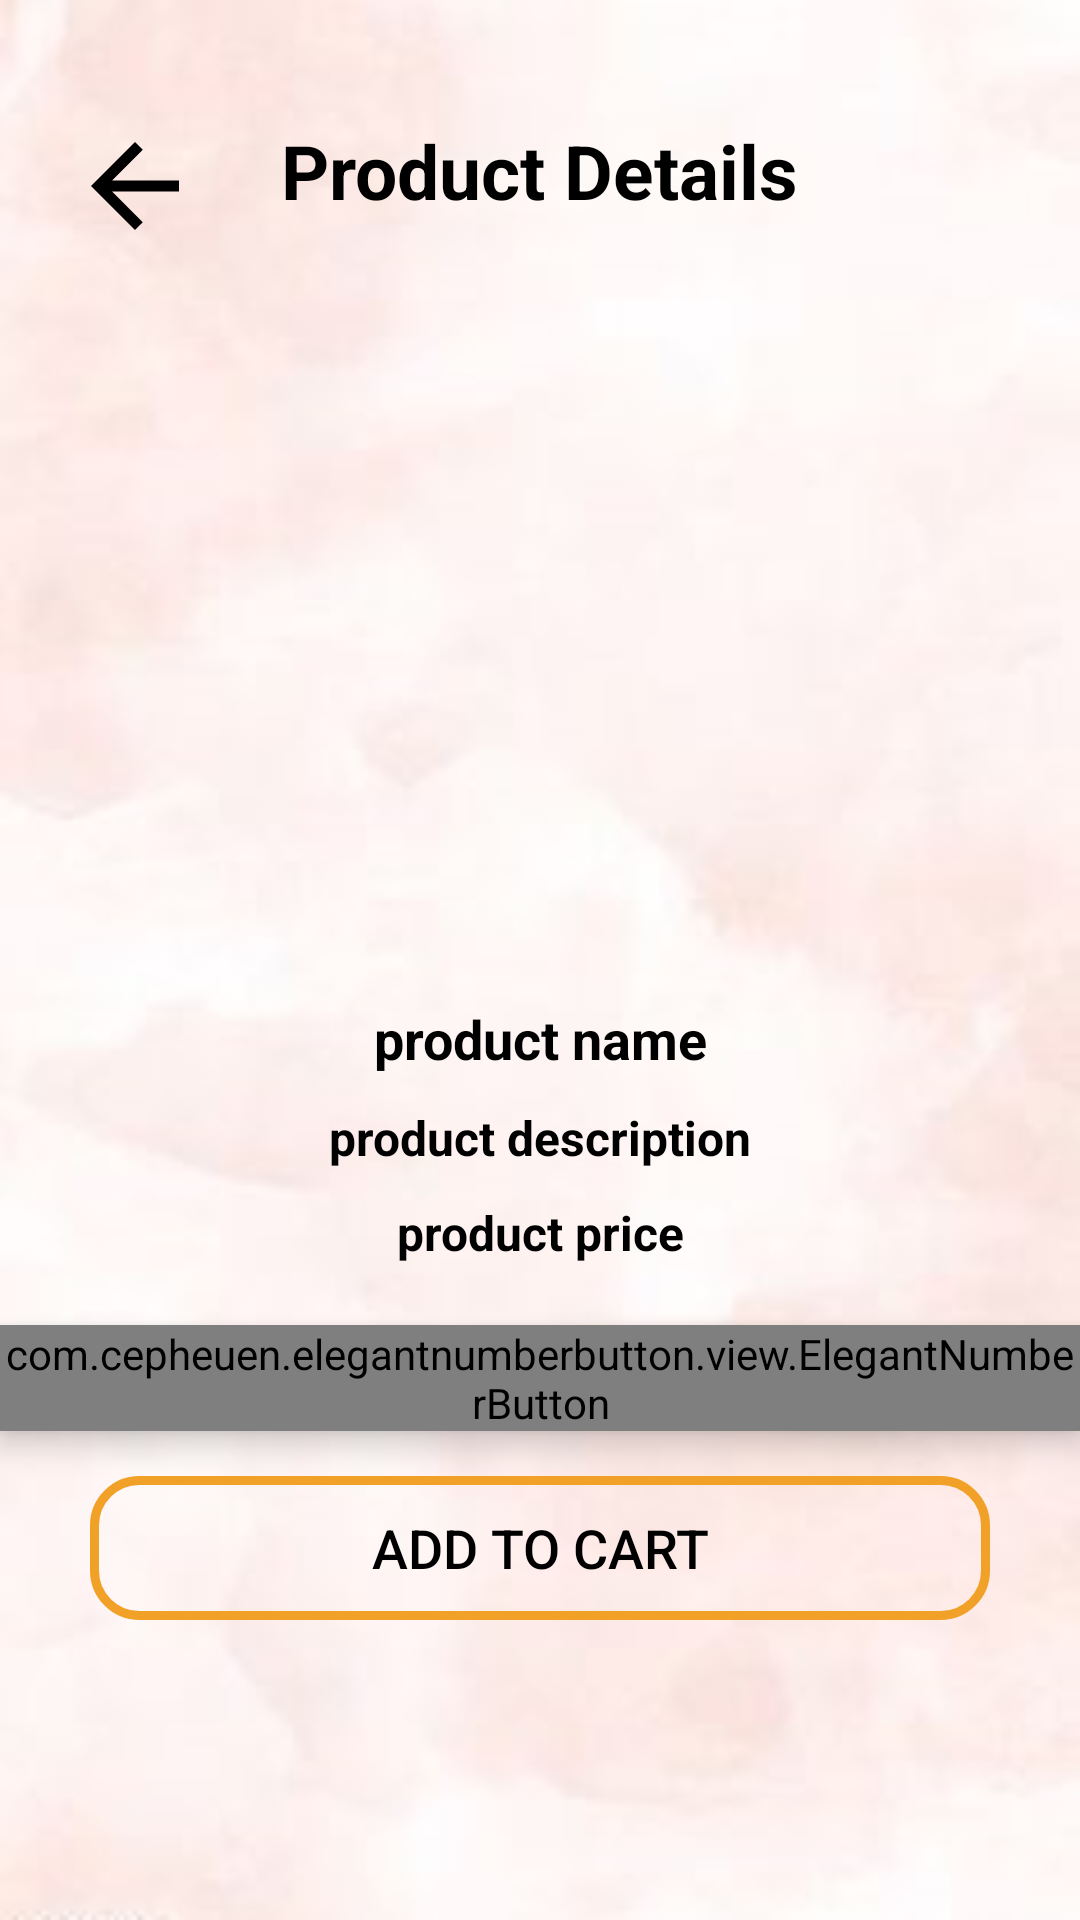

Screen size 1080 × 1920. Icon name, then its box in pixels as [x1=x1, y1=y1, x2=x2, y2=y2]:
back: [x1=91, y1=142, x2=179, y2=230]
